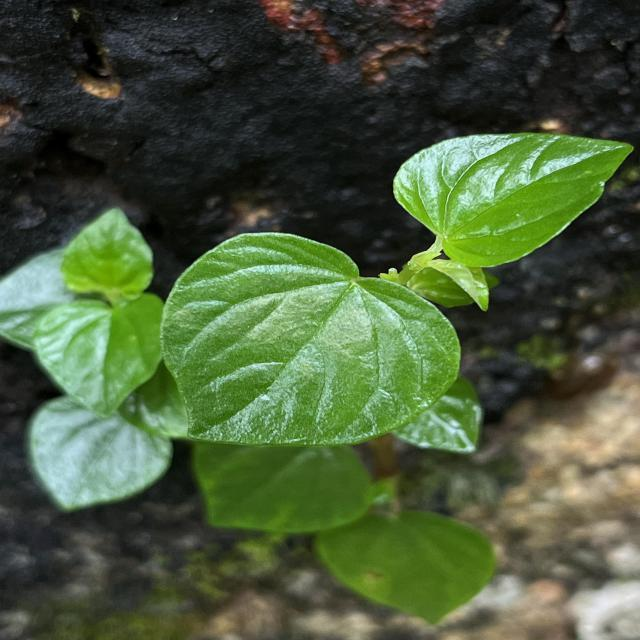Peperomia pellucida: (157, 230, 466, 450), (389, 128, 636, 271)
